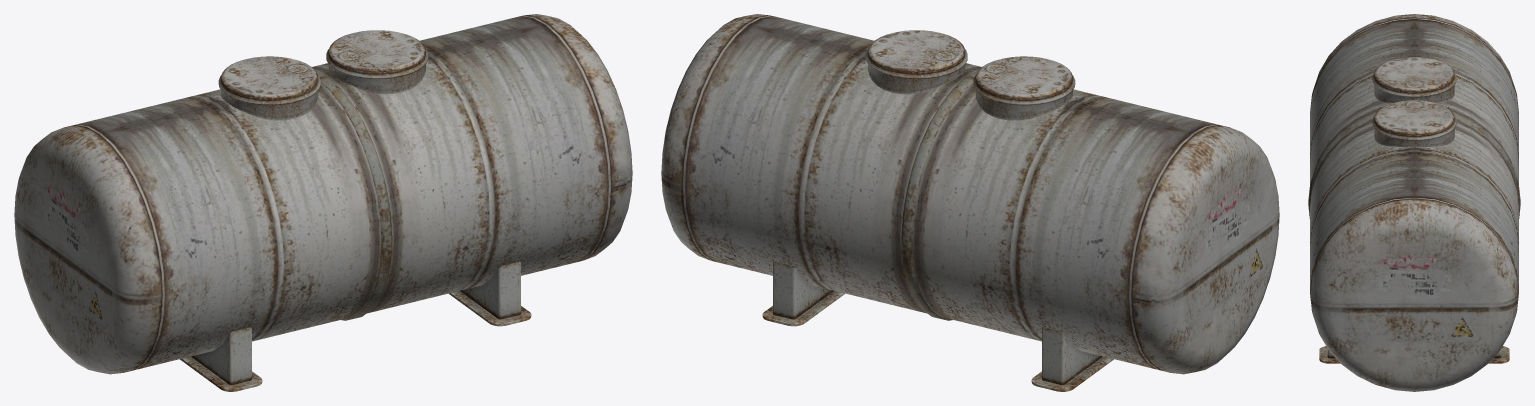
Rendered from fuel_tank.glb.
3 renders of one model, left to right at view 1: azimuth 30°, elevation 25°; view 2: azimuth 150°, elevation 25°; view 3: azimuth 270°, elevation 25°, orthographic. The views are drawn at different scales.
Visible parts, largest first — view 1: fuel_tank_b_600_LOD0; view 2: fuel_tank_b_600_LOD0; view 3: fuel_tank_b_600_LOD0.
Part boxes in pixels (bbox=[...]): fuel_tank_b_600_LOD0: bbox=[14, 14, 632, 391]; fuel_tank_b_600_LOD0: bbox=[661, 14, 1279, 391]; fuel_tank_b_600_LOD0: bbox=[1308, 14, 1520, 391].
Size of what is drawn, in the model's own units: 5.73 by 2.68 by 2.49.
1 material, 1 textured.
